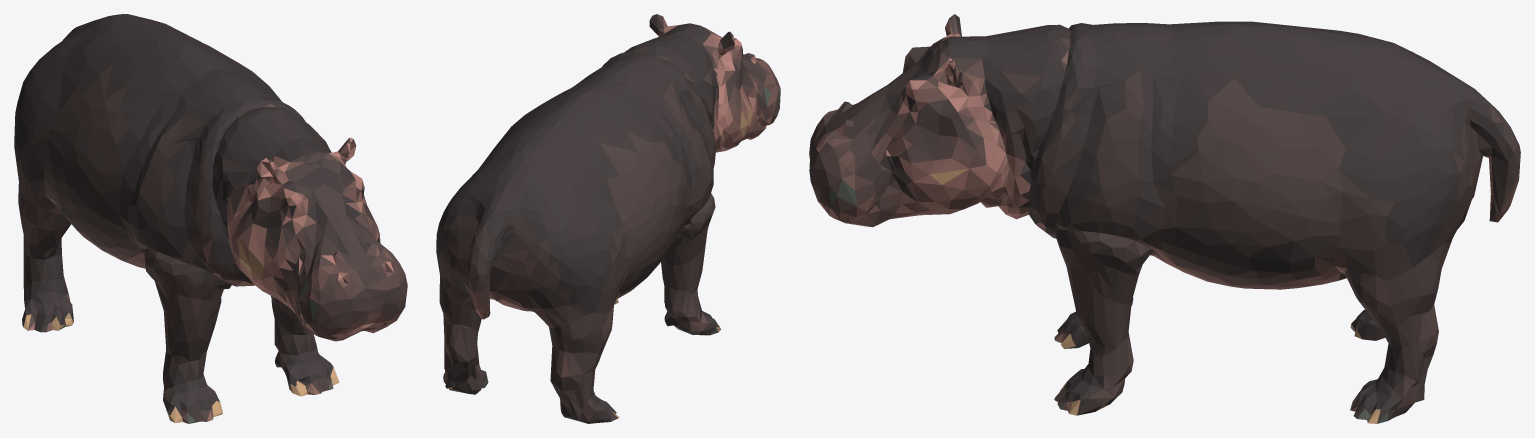
Rendered from hippopotamus_amphibius.glb.
3 renders of one model, left to right at view 1: azimuth 30°, elevation 25°; view 2: azimuth 150°, elevation 25°; view 3: azimuth 270°, elevation 25°, orthographic. The views are drawn at different scales.
Parts seen in each view (by area): view 1: lod0; view 2: lod0; view 3: lod0.
Part boxes in pixels (left/top/right/bottom): lod0: left=14, top=14, right=407, bottom=423; lod0: left=436, top=14, right=780, bottom=423; lod0: left=809, top=14, right=1520, bottom=423.
Size of what is drawn, in the model's own units: 1.03 by 1.48 by 2.77.
